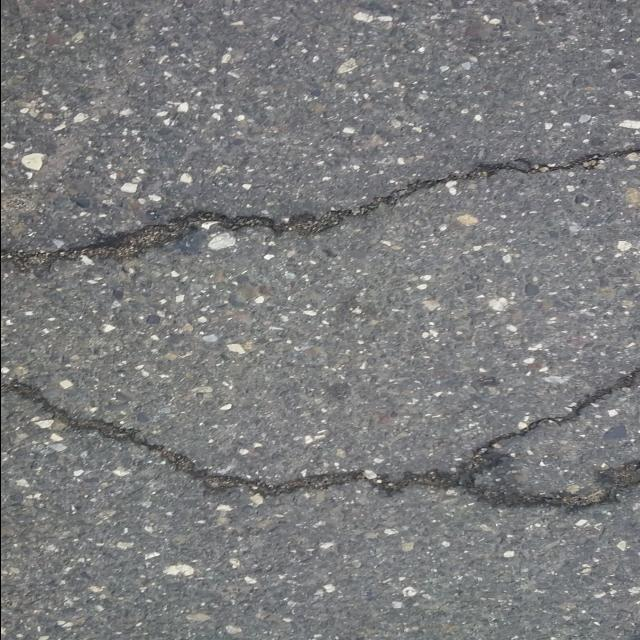Crack: (0, 367, 640, 508), (0, 148, 640, 277)
